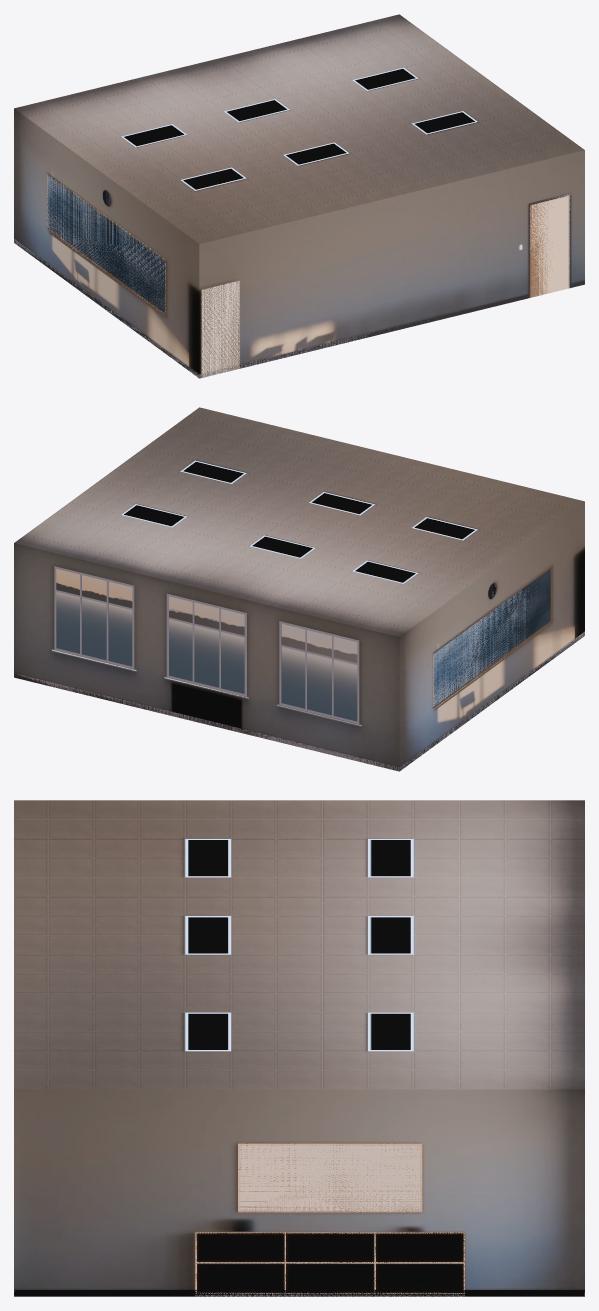
Rendered from classroom.glb.
The picture shows the model from 3 angles, top to bottom: view 1: azimuth 30°, elevation 25°; view 2: azimuth 150°, elevation 25°; view 3: azimuth 270°, elevation 25°; orthographic projection. The views are drawn at different scales.
Visible parts, largest first — view 1: room_shell, room_furniture; view 2: room_shell, window_view, room_furniture; view 3: room_shell, room_furniture.
Boxes of the visible parts, <box> form: room_shell: <box>14,14,584,378</box>; room_furniture: <box>14,67,570,378</box>; room_shell: <box>14,407,584,771</box>; window_view: <box>56,569,357,721</box>; room_furniture: <box>15,460,584,771</box>; room_shell: <box>14,800,584,1296</box>; room_furniture: <box>14,839,584,1296</box>.
Bounding box in the file's own units: 9.14 × 3.05 × 7.62.
Materials: 3 (3 with a texture image).
